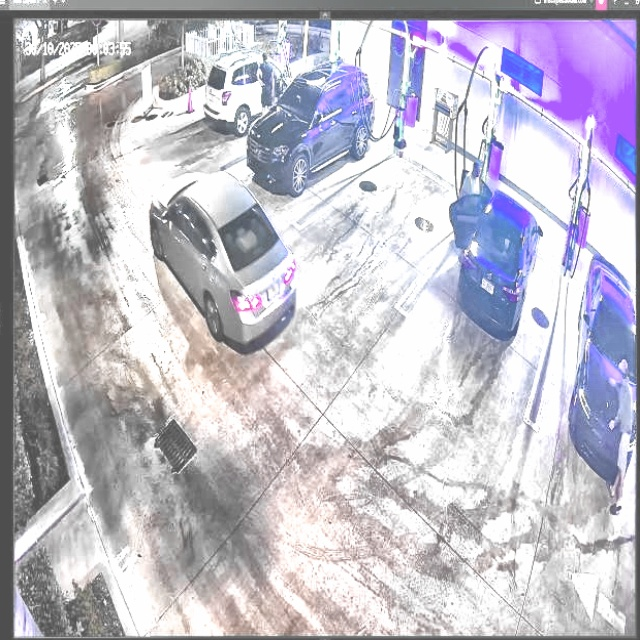Car: (152, 160, 298, 349), (247, 63, 375, 187), (457, 166, 544, 337)
